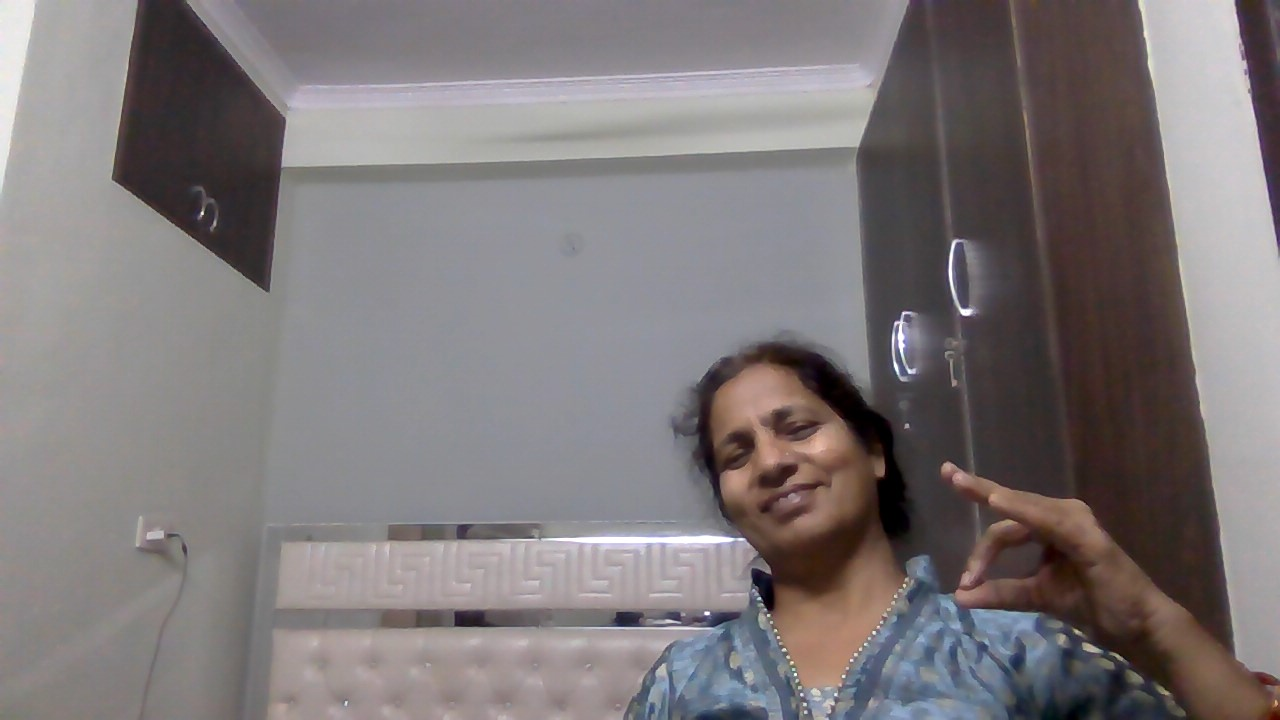Copy: (928, 451, 1173, 671)
